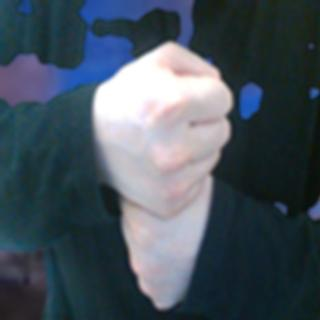CAREFUL: (91, 36, 238, 316)
